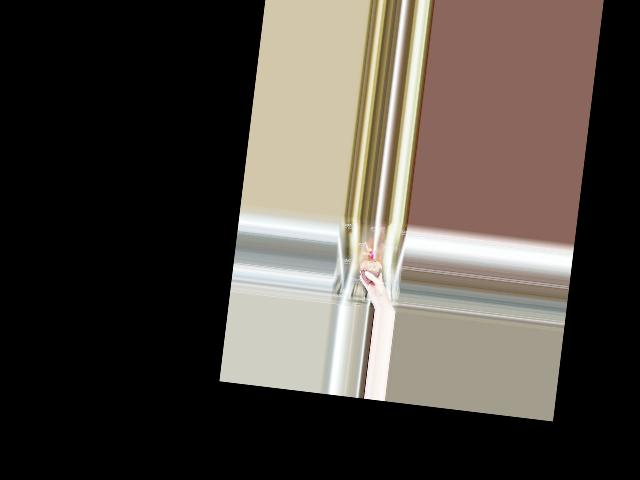beet: (357, 242, 384, 284)
